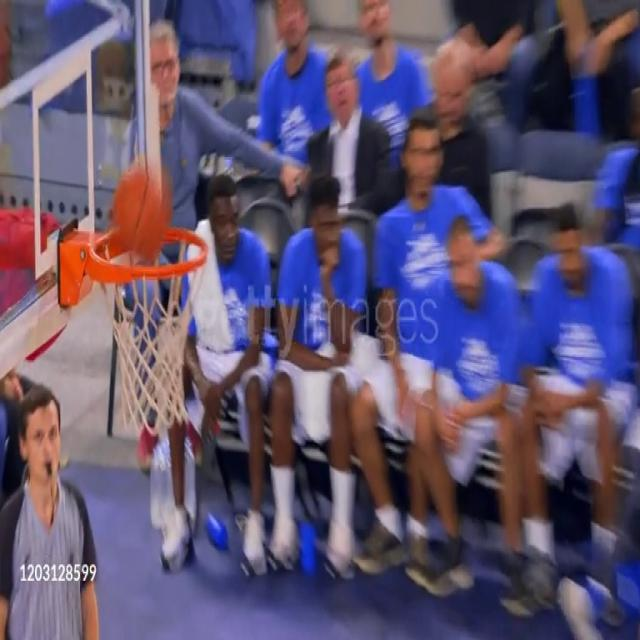ball: (114, 166, 174, 265)
